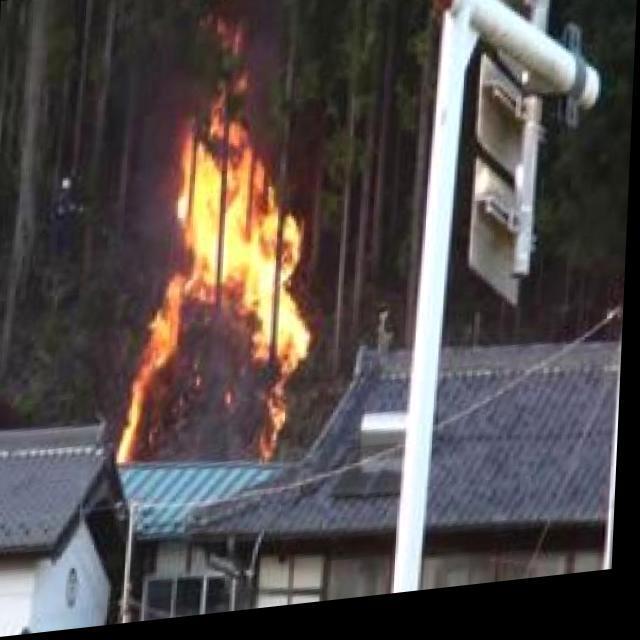fire: (125, 16, 312, 472)
